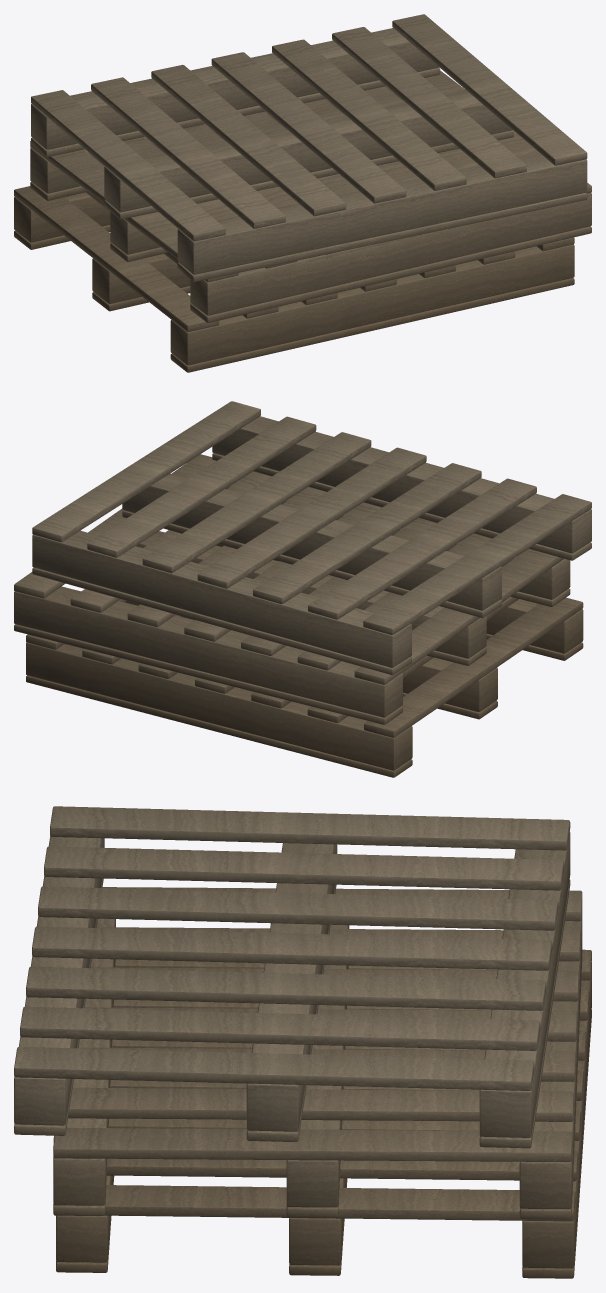
The model's file is prop_pallets.glb.
3 views of the same model, one above another, from view 1: azimuth 30°, elevation 25°; view 2: azimuth 150°, elevation 25°; view 3: azimuth 270°, elevation 25° (orthographic). The views are drawn at different scales.
Visible parts, largest first — view 1: PalletStack; view 2: PalletStack; view 3: PalletStack.
Boxes of the visible parts, x1,y1,x2,y2 form: PalletStack: (14, 14, 591, 372); PalletStack: (14, 401, 591, 777); PalletStack: (14, 806, 591, 1278).
Size of the model in its own units: 1.27 by 0.434 by 1.11.
Materials: 1 (1 with a texture image).
